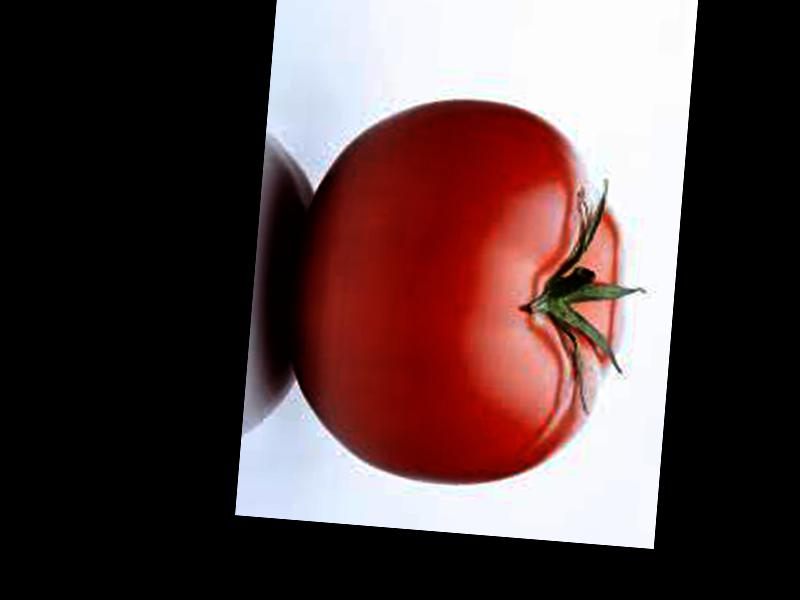Tomato: (281, 89, 636, 497)
